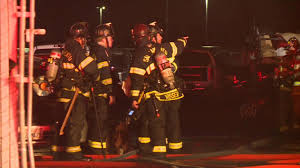emergent: (129, 25, 184, 151), (60, 23, 91, 154), (91, 21, 114, 152)
